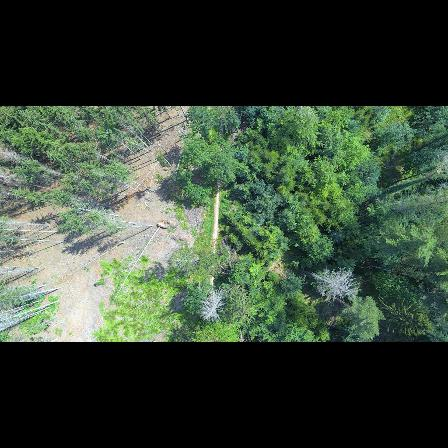Dead: (309, 266, 361, 302), (202, 287, 223, 324)
